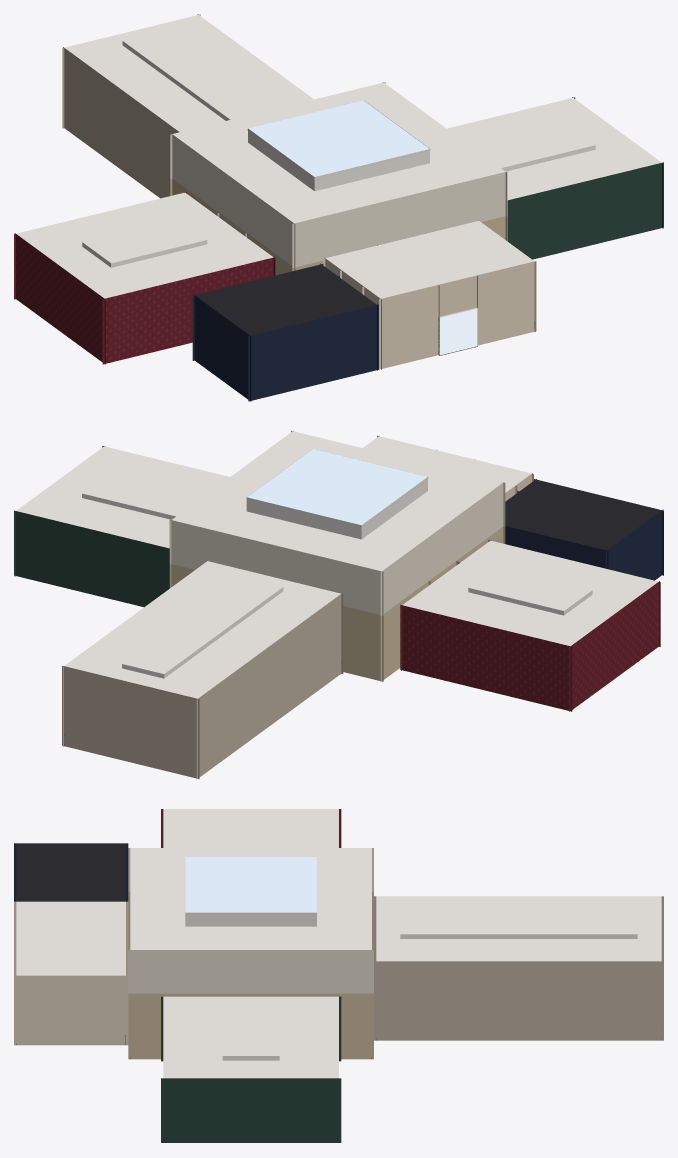
Rendered from gallery.glb.
3 views of the same model, one above another, from view 1: azimuth 30°, elevation 25°; view 2: azimuth 150°, elevation 25°; view 3: azimuth 270°, elevation 25° (orthographic).
Parts seen in each view (by area): view 1: Gallery, emit_glow_sky, emit_glow_daylight, Details; view 2: Gallery, emit_glow_sky, Details; view 3: Gallery, emit_glow_sky.
Part boxes in pixels (<box>): Gallery: <box>14,14,663,401</box>; emit_glow_sky: <box>248,100,429,176</box>; emit_glow_daylight: <box>439,308,477,355</box>; Details: <box>194,100,661,369</box>; Gallery: <box>14,430,663,779</box>; emit_glow_sky: <box>247,449,427,525</box>; Details: <box>16,449,428,745</box>; Gallery: <box>14,809,663,1142</box>; emit_glow_sky: <box>185,857,316,912</box>.
Bounding box in the file's own units: 58.4 × 12.42 × 59.2.
Materials: 36 (6 with a texture image).
